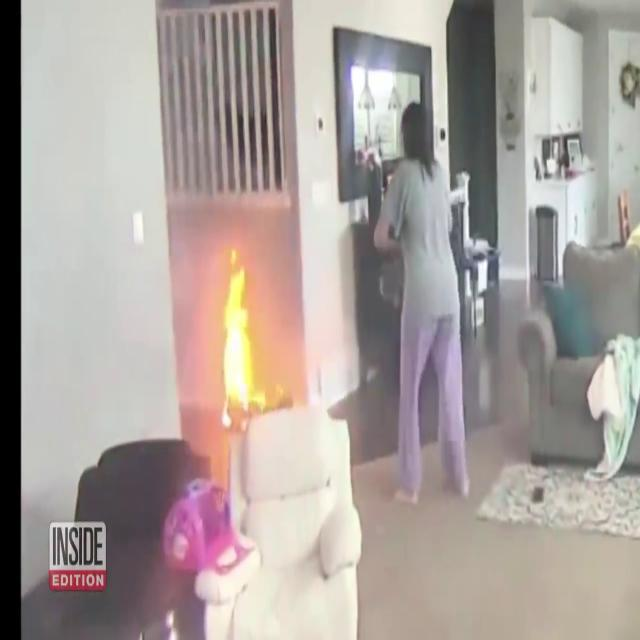Fire: (216, 237, 260, 423)
